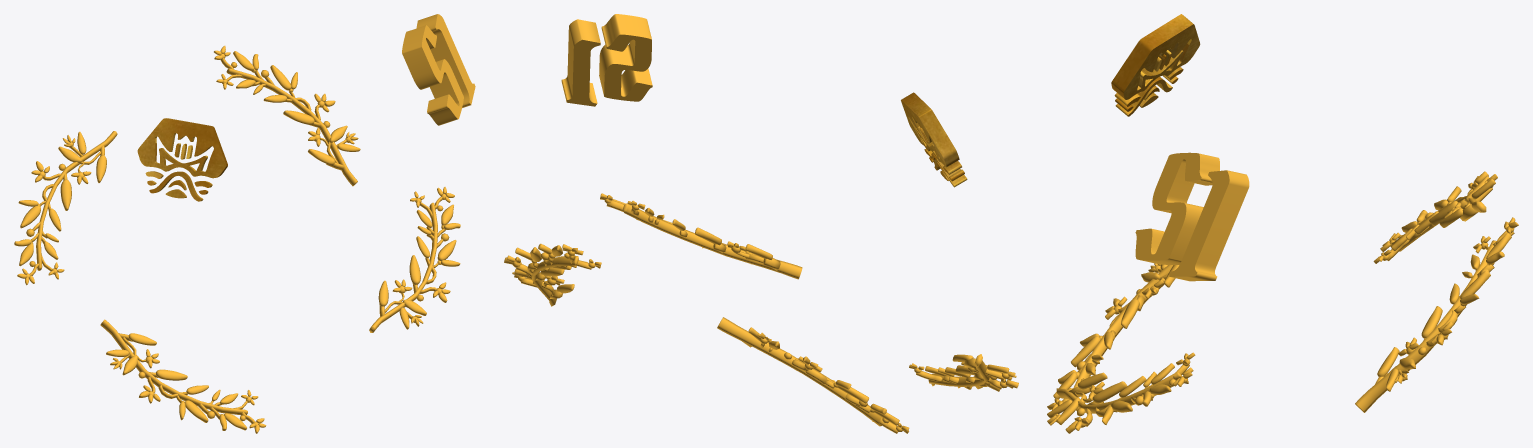
Rendered from s1_legacy_troop_aura.glb.
3 views of the same model, side by side, from view 1: azimuth 30°, elevation 25°; view 2: azimuth 150°, elevation 25°; view 3: azimuth 270°, elevation 25° (orthographic). The views are drawn at different scales.
Parts seen in each view (by area): view 1: legacy_aura; view 2: legacy_aura; view 3: legacy_aura.
Part boxes in pixels (bbox=[...]): legacy_aura: bbox=[14, 14, 475, 433]; legacy_aura: bbox=[504, 14, 1018, 433]; legacy_aura: bbox=[1047, 14, 1518, 433].
Bounding box in the file's own units: 0.8468 × 0.6611 × 0.7082.
Materials: 2 (1 with a texture image).
